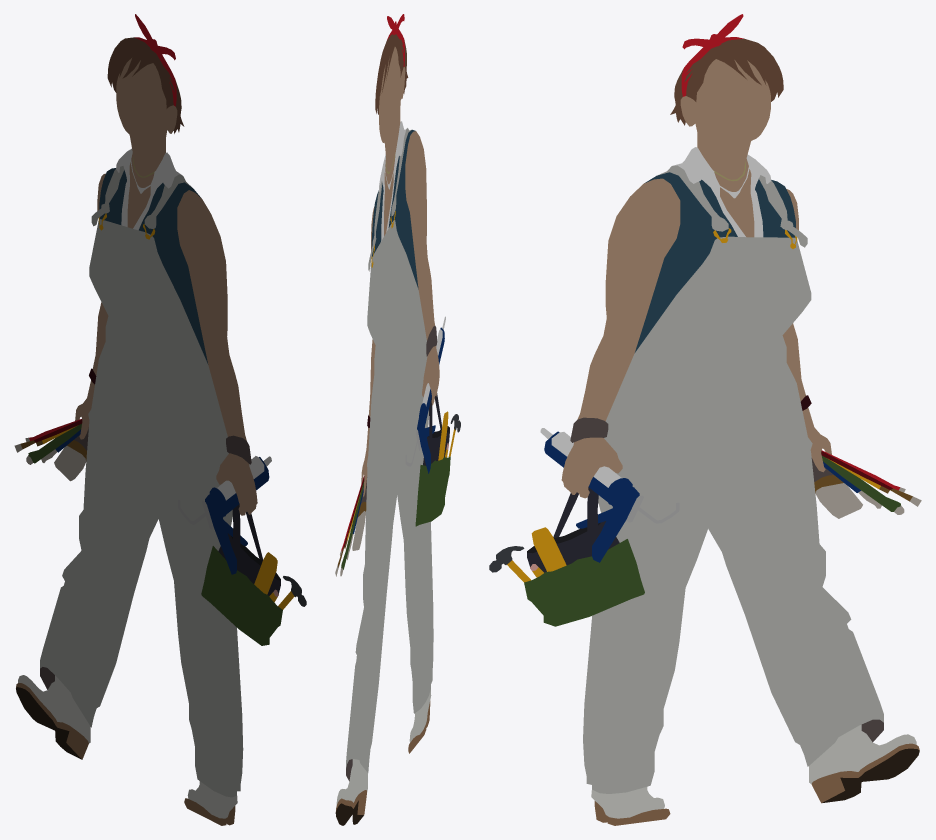
The picture shows the model from 3 angles, left to right: view 1: azimuth 30°, elevation 25°; view 2: azimuth 150°, elevation 25°; view 3: azimuth 270°, elevation 25°; orthographic projection. The views are drawn at different scales.
Visible parts, largest first — view 1: Lisanne (×19); view 2: Lisanne (×23); view 3: Lisanne (×23).
Boxes of the visible parts, <box> form: Lisanne (×19): <box>16,14,282,818</box>; Lisanne (×23): <box>335,14,450,825</box>; Lisanne (×23): <box>524,14,919,818</box>.
Size of the model in its own units: 7.51 by 32.8 by 66.88.
